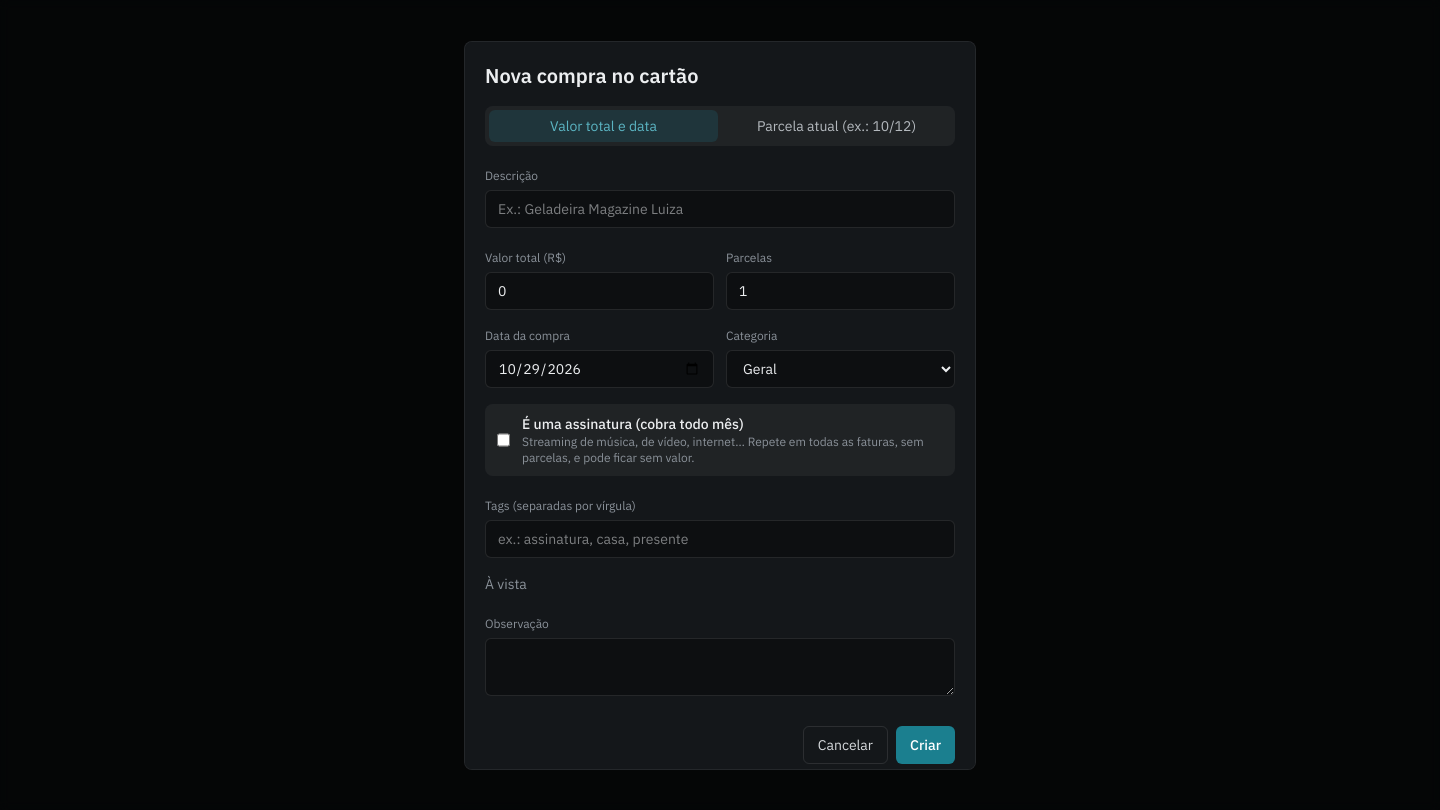
Test: ModalCompra › assinatura esconde as parcelas e, ao desmarcar, devolve o número anterior
Replace the text in the number field labelled "Parcelas" with "4" at (840, 290), box [726, 272, 955, 310]
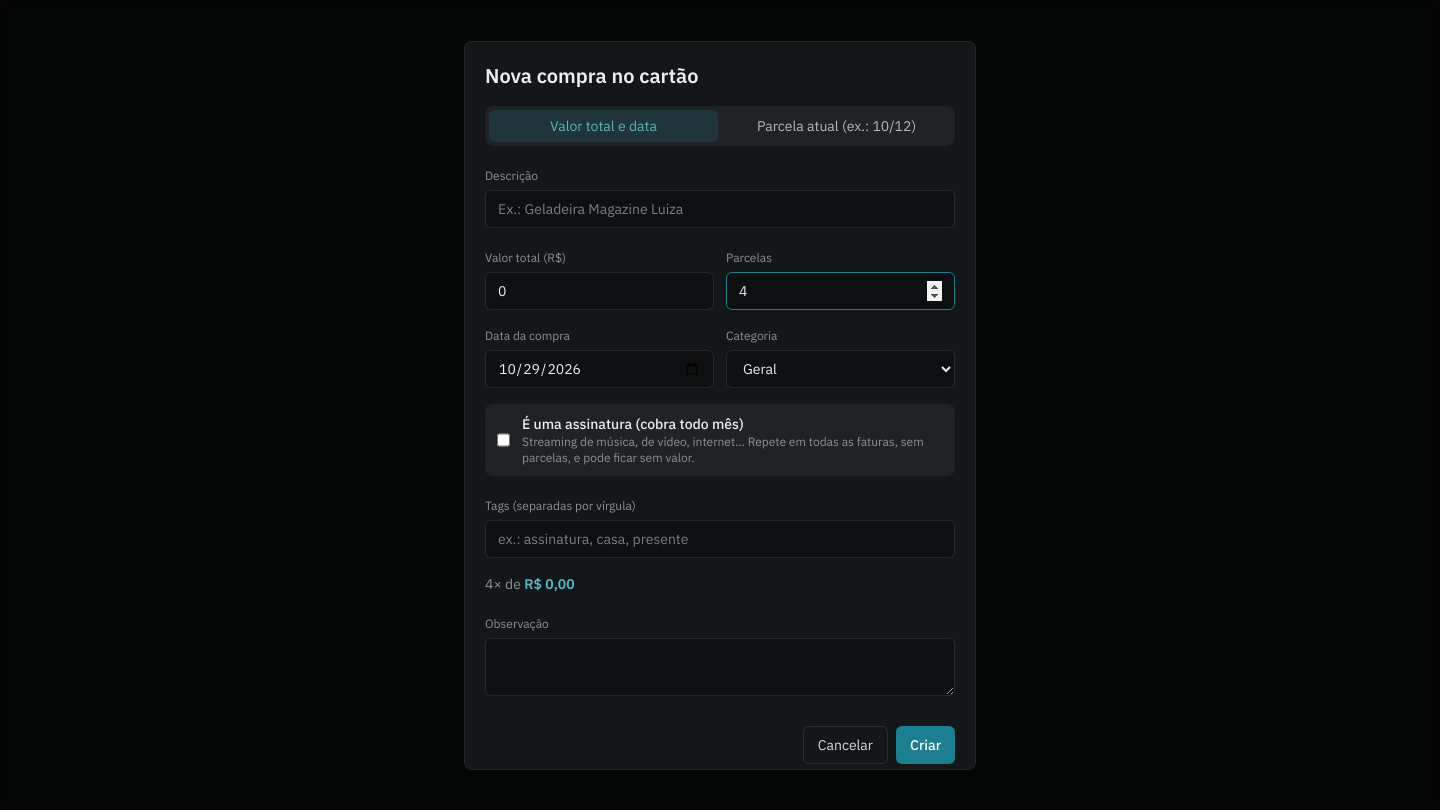
Click the checkbox at (504, 440), box [497, 432, 510, 448]
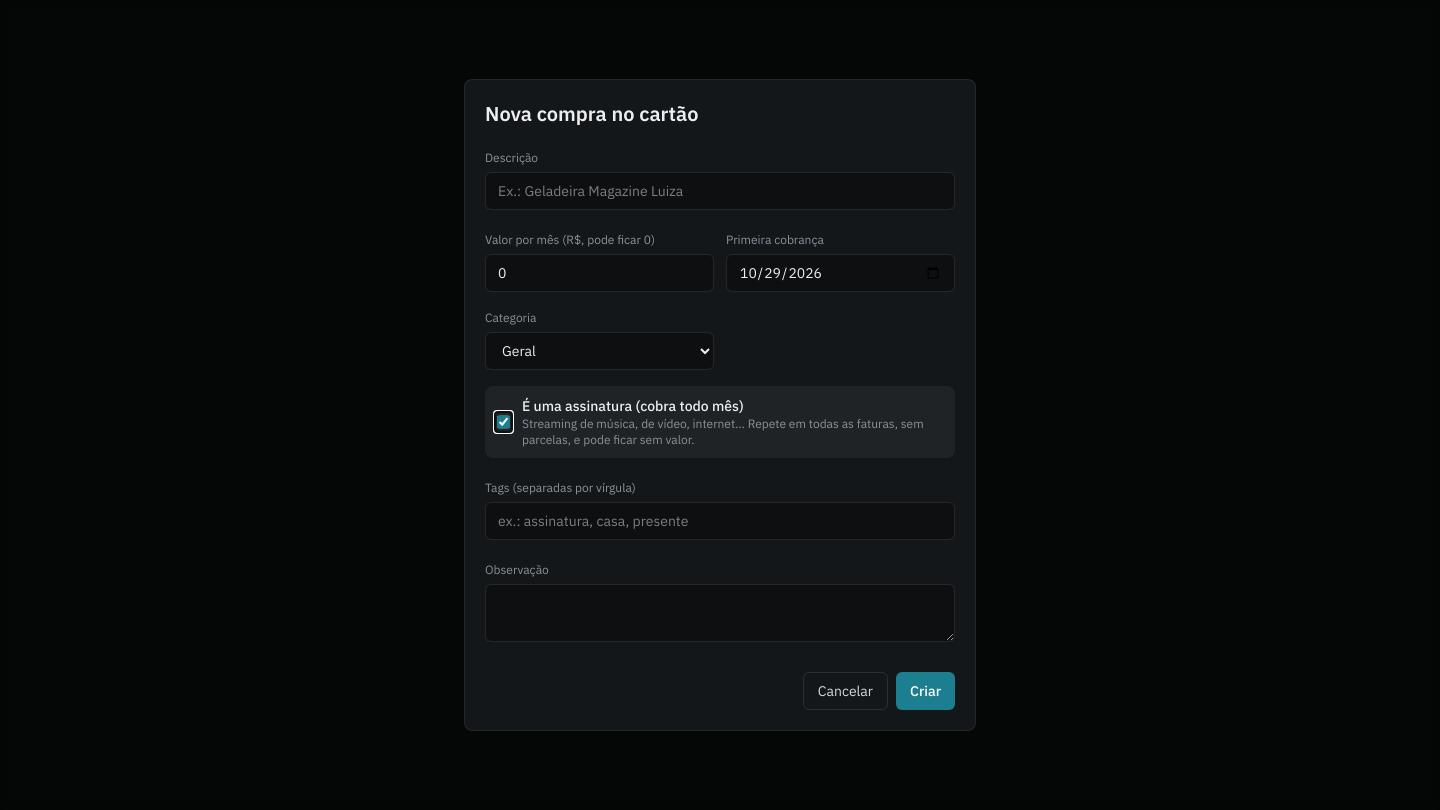
Expected: the field labelled "Parcelas" is not shown
Click the checkbox at (504, 422), box [497, 414, 510, 430]
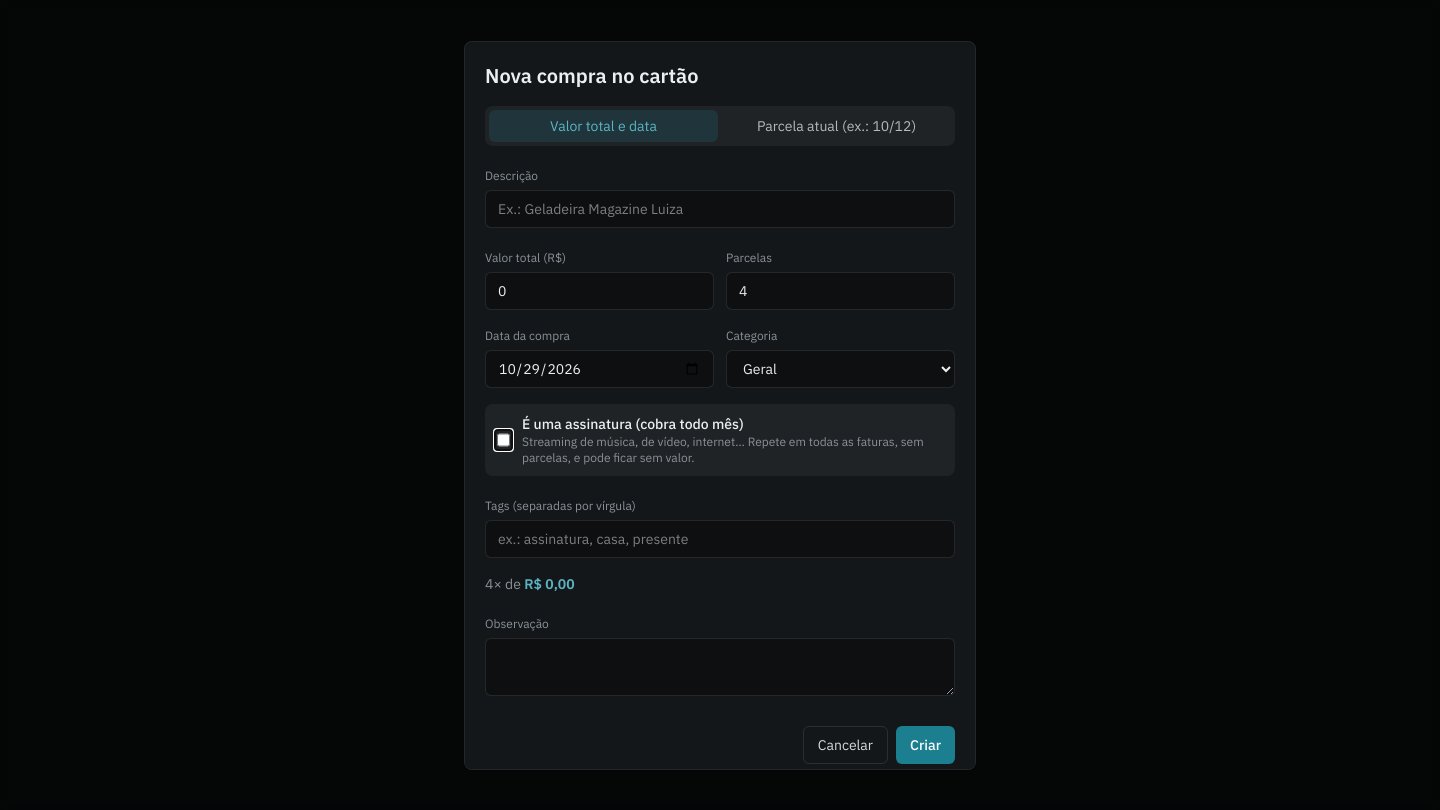
Expected: the number field labelled "Parcelas" holds "4", [726, 272, 955, 310]
